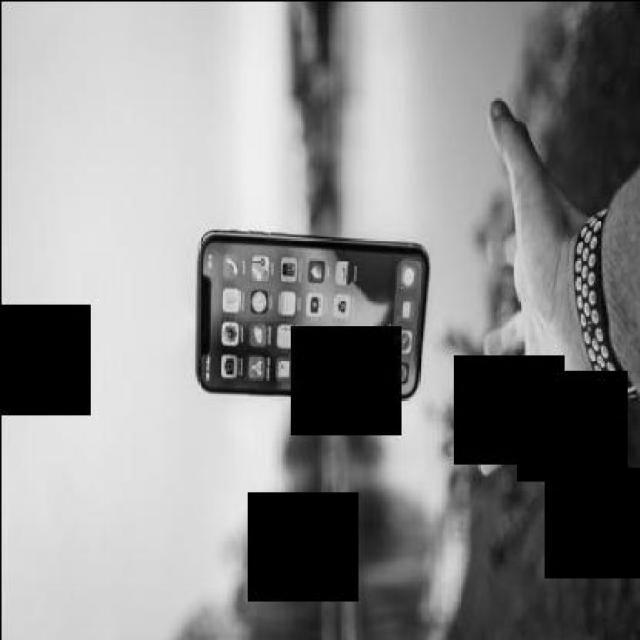fake: (196, 224, 432, 402)
